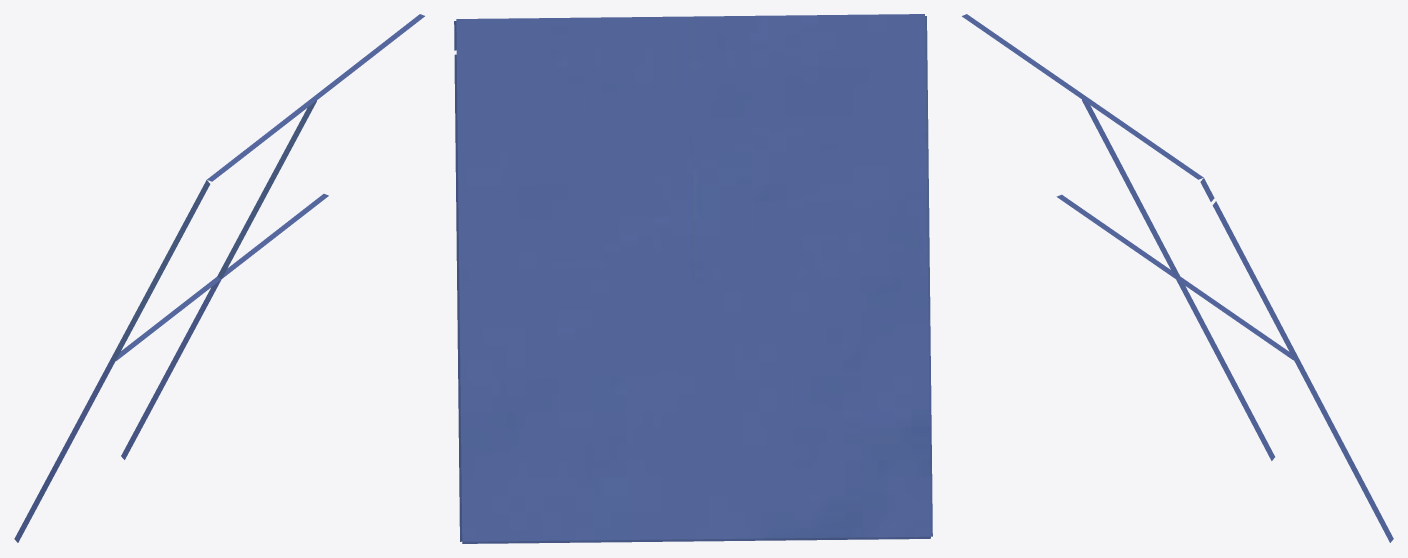
3 views of the same model, side by side, from view 1: azimuth 30°, elevation 25°; view 2: azimuth 150°, elevation 25°; view 3: azimuth 270°, elevation 25° (orthographic). The views are drawn at different scales.
Size of the model in its own units: 39479 by 35523 by 33616.
1 material, 1 textured.
